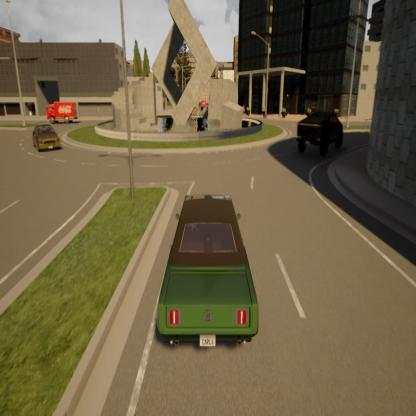Cars: (150, 184, 265, 360), (292, 110, 348, 162), (31, 122, 63, 156), (44, 98, 79, 126)
